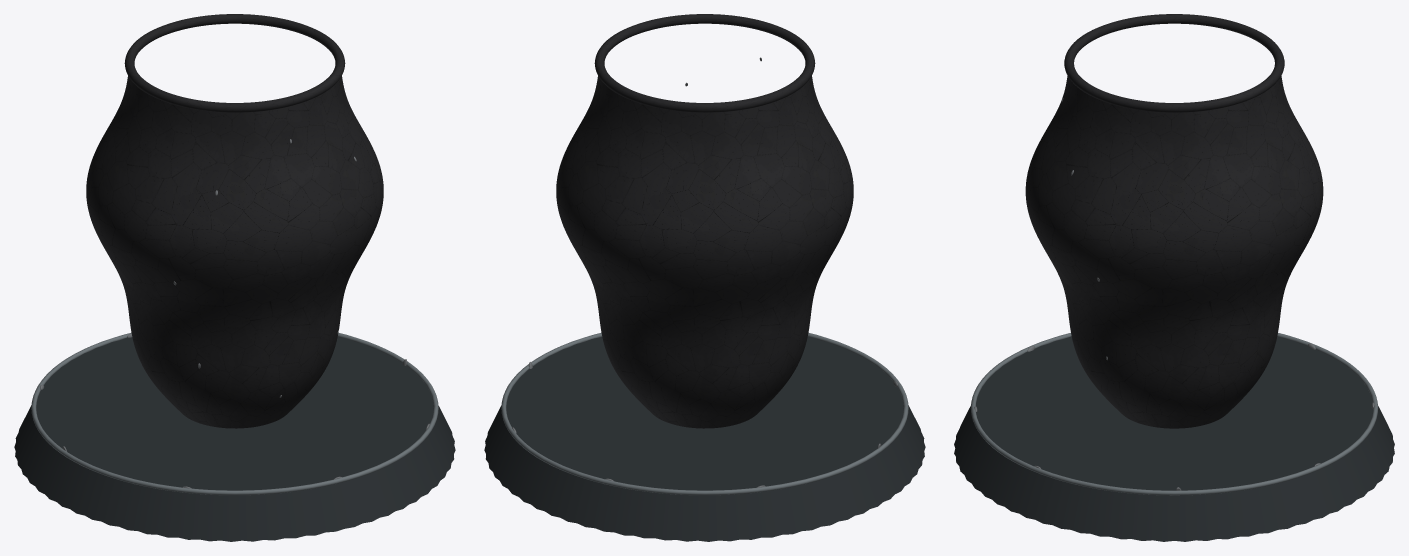
The picture shows the model from 3 angles, left to right: view 1: azimuth 30°, elevation 25°; view 2: azimuth 150°, elevation 25°; view 3: azimuth 270°, elevation 25°; orthographic projection.
Parts seen in each view (by area): view 1: surface specimen, neutral specimen stand, specimen edge; view 2: surface specimen, neutral specimen stand, specimen edge; view 3: surface specimen, neutral specimen stand, specimen edge.
Part boxes in pixels (x1,y1,x2,y2): surface specimen: (86, 14, 383, 428); neutral specimen stand: (14, 337, 455, 541); specimen edge: (31, 332, 438, 495); surface specimen: (556, 14, 853, 428); neutral specimen stand: (484, 336, 925, 541); specimen edge: (501, 332, 908, 495); surface specimen: (1025, 14, 1323, 428); neutral specimen stand: (954, 336, 1394, 541); specimen edge: (971, 333, 1377, 495).
Bounding box in the file's own units: 0.539 × 0.526 × 0.539.
Materials: 4 (1 with a texture image).
